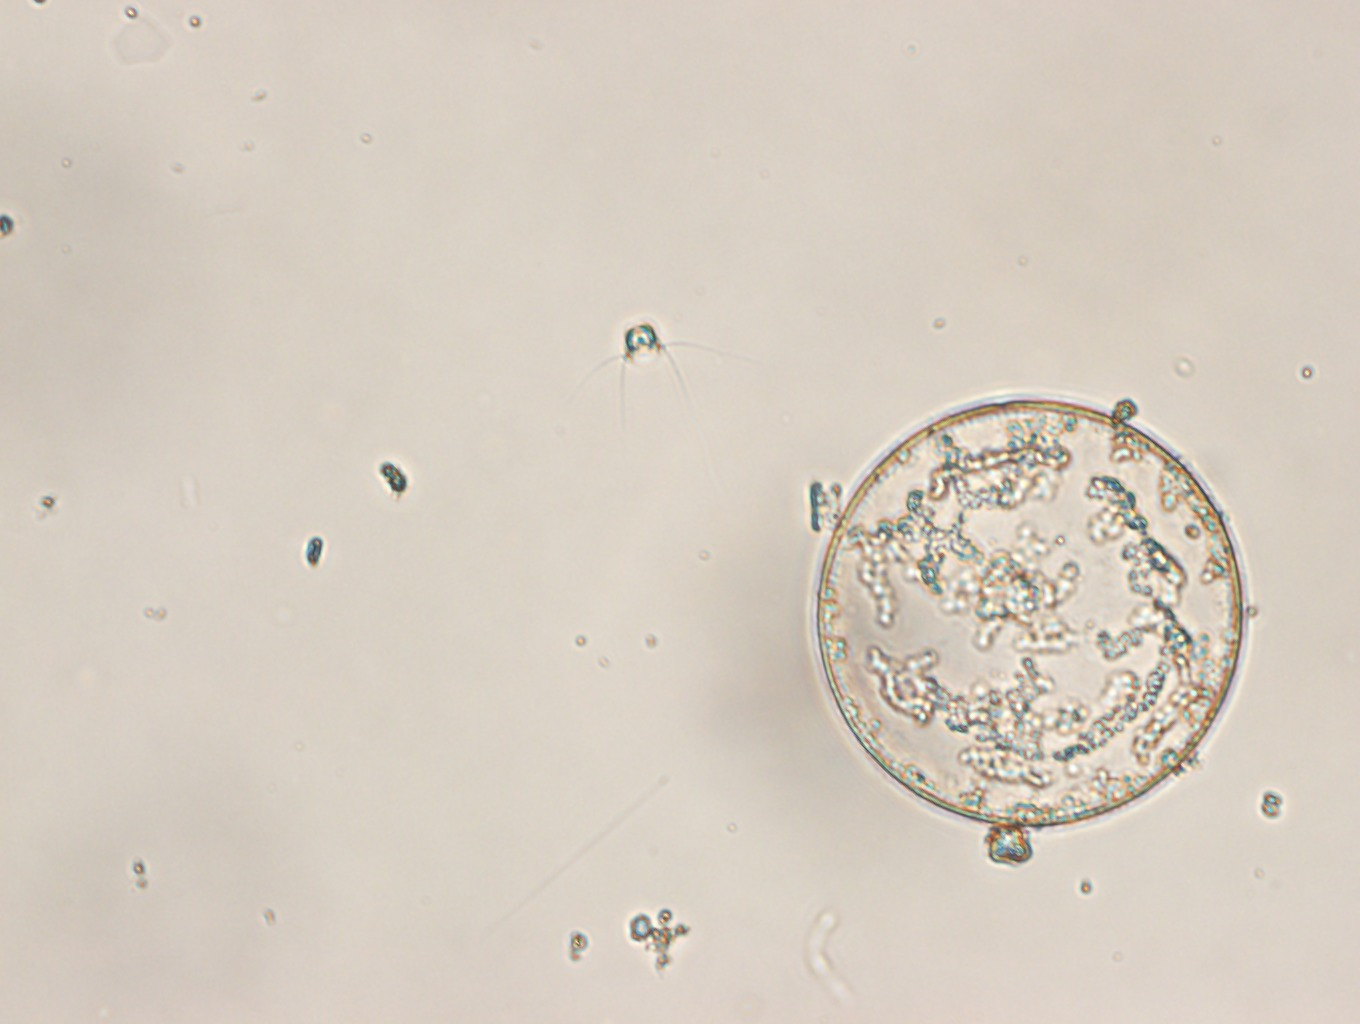chaetoceros: (571, 315, 759, 436)
coscinodiscus: (811, 392, 1250, 828)
